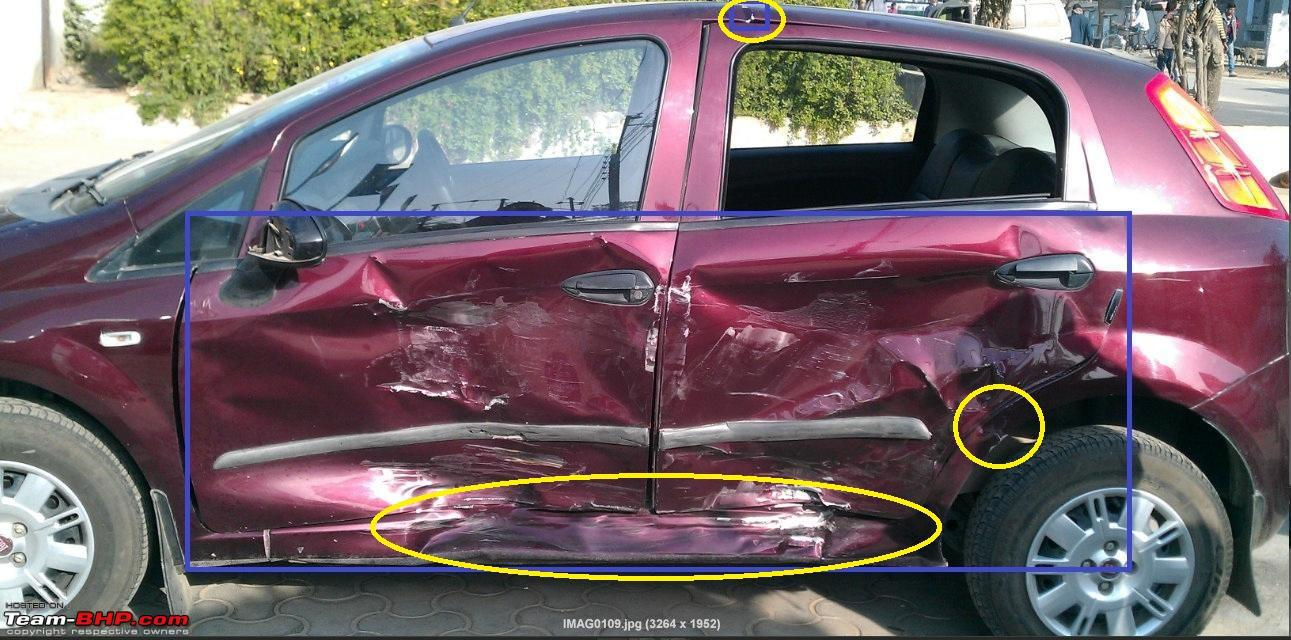RunningBoard-Dent: (172, 509, 584, 578), (575, 503, 951, 572)
doorouter-dent: (675, 212, 1173, 518), (177, 219, 664, 510)
pillar-dent: (642, 0, 755, 238)
